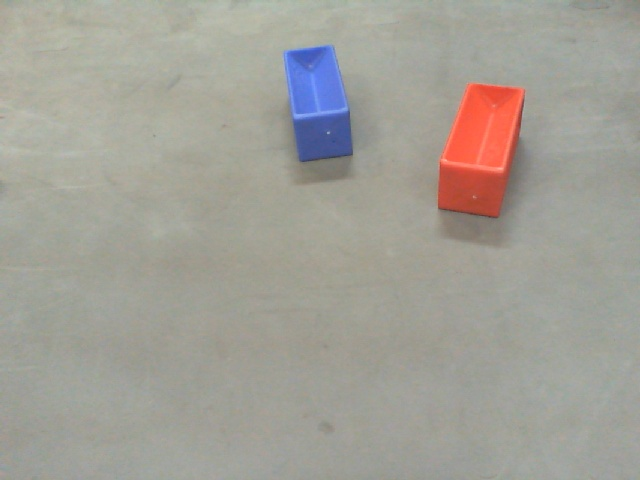BlueSample: (278, 42, 353, 162)
RedSample: (435, 80, 528, 220)
